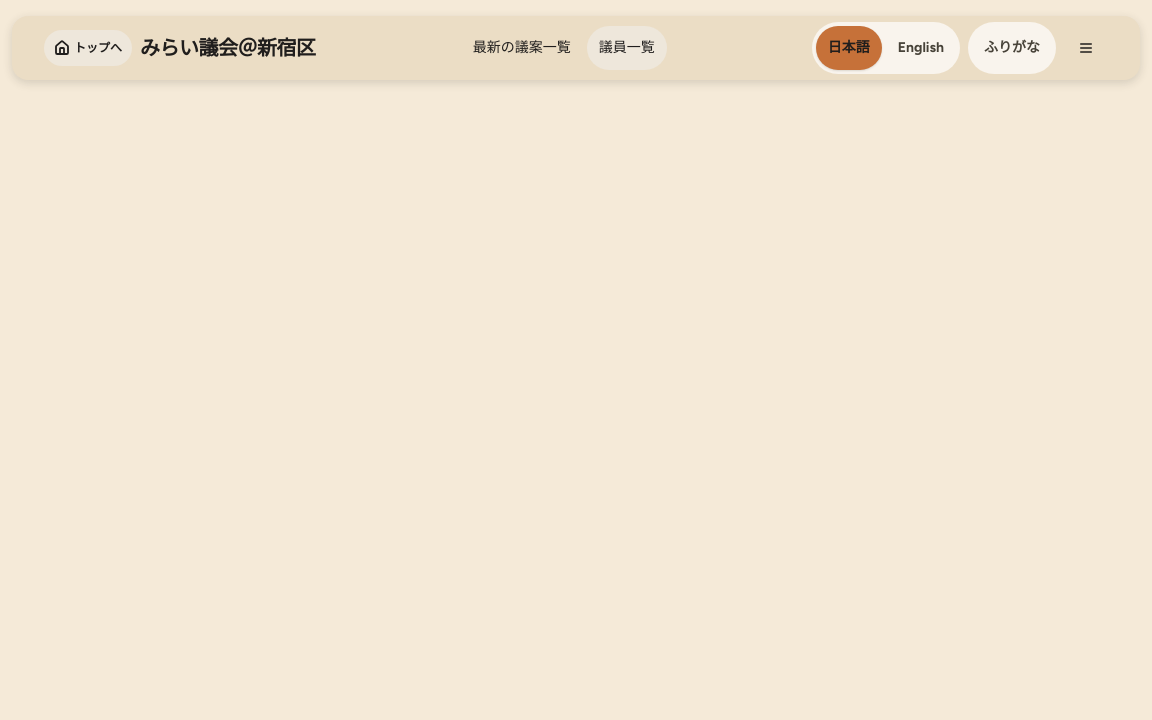
Test: HeaderClient › デスクトップでのメニューの重複解消（P8-11） › 定例会があれば、最新の定例会も含めデスクトップでも議案一覧を残す
Click the button named "メニューを開く".
click(1086, 48)  # box [1064,26,1108,70]
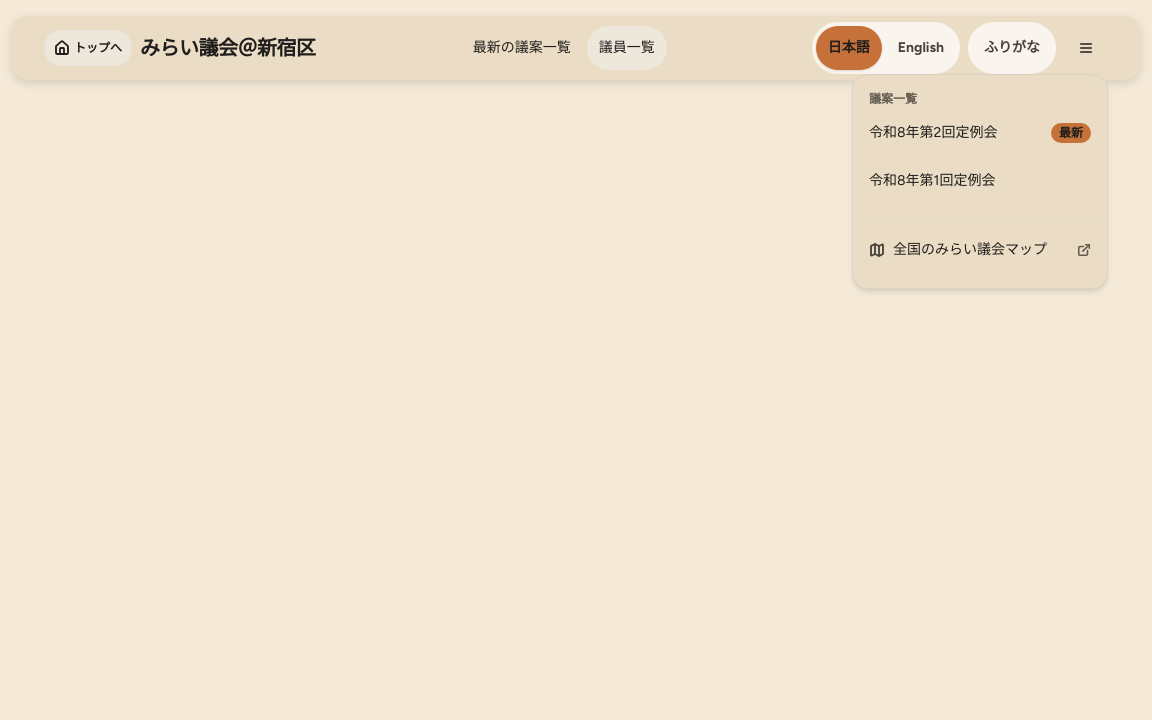
Expected: the text "最新" is shown, [1051,123,1091,143]
